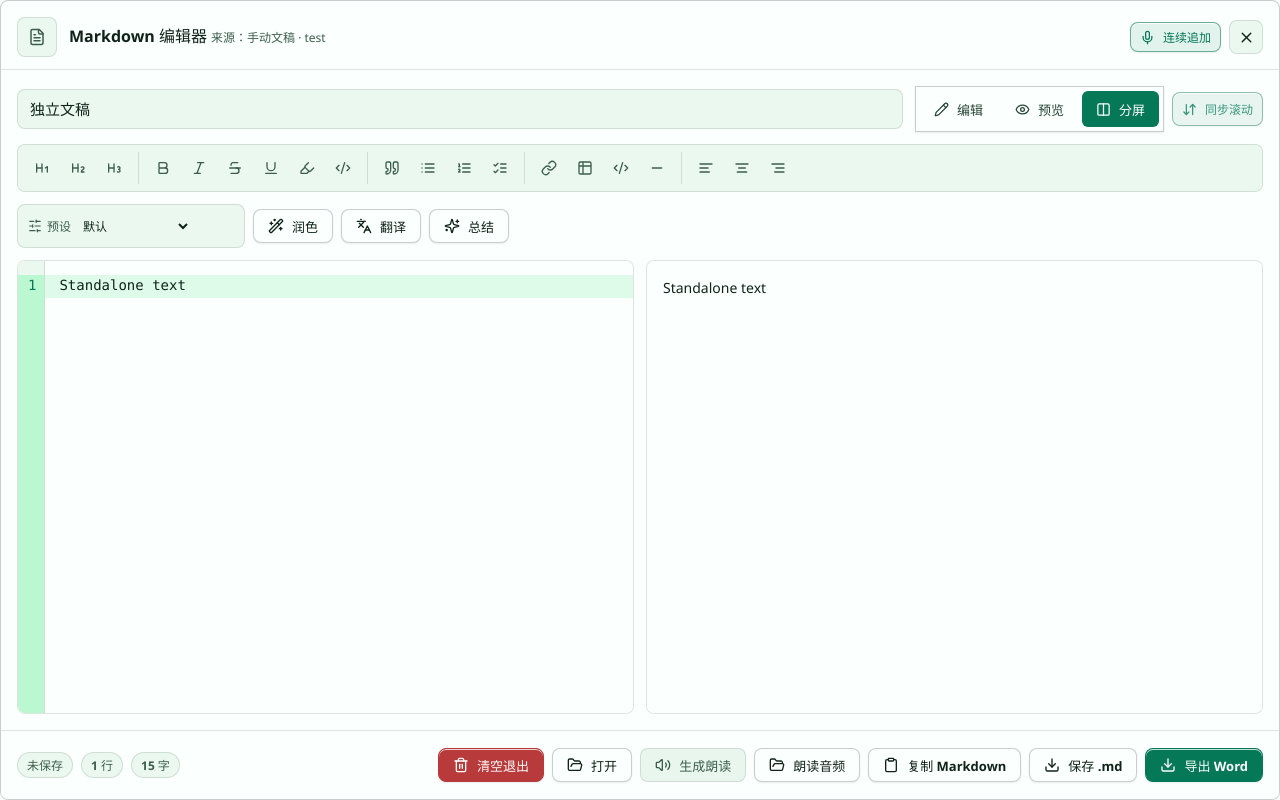
Scenario: standalone Markdown editor App entry › silently discards a file result after the standalone editor switches drafts
Click the button with aria-label "打开 Markdown 文件" at (592, 765), box [552,748,632,782]
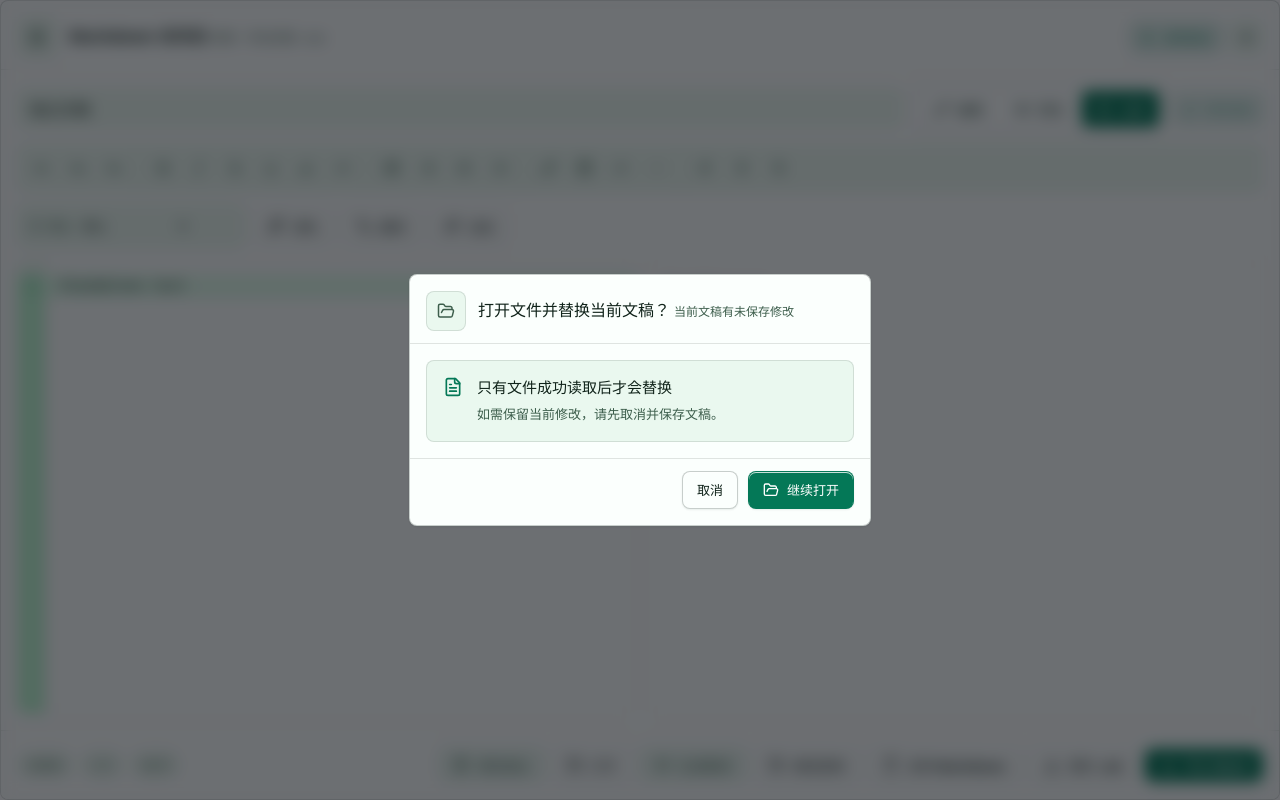
Click the button "继续打开" at (801, 490), box [748,471,854,509]
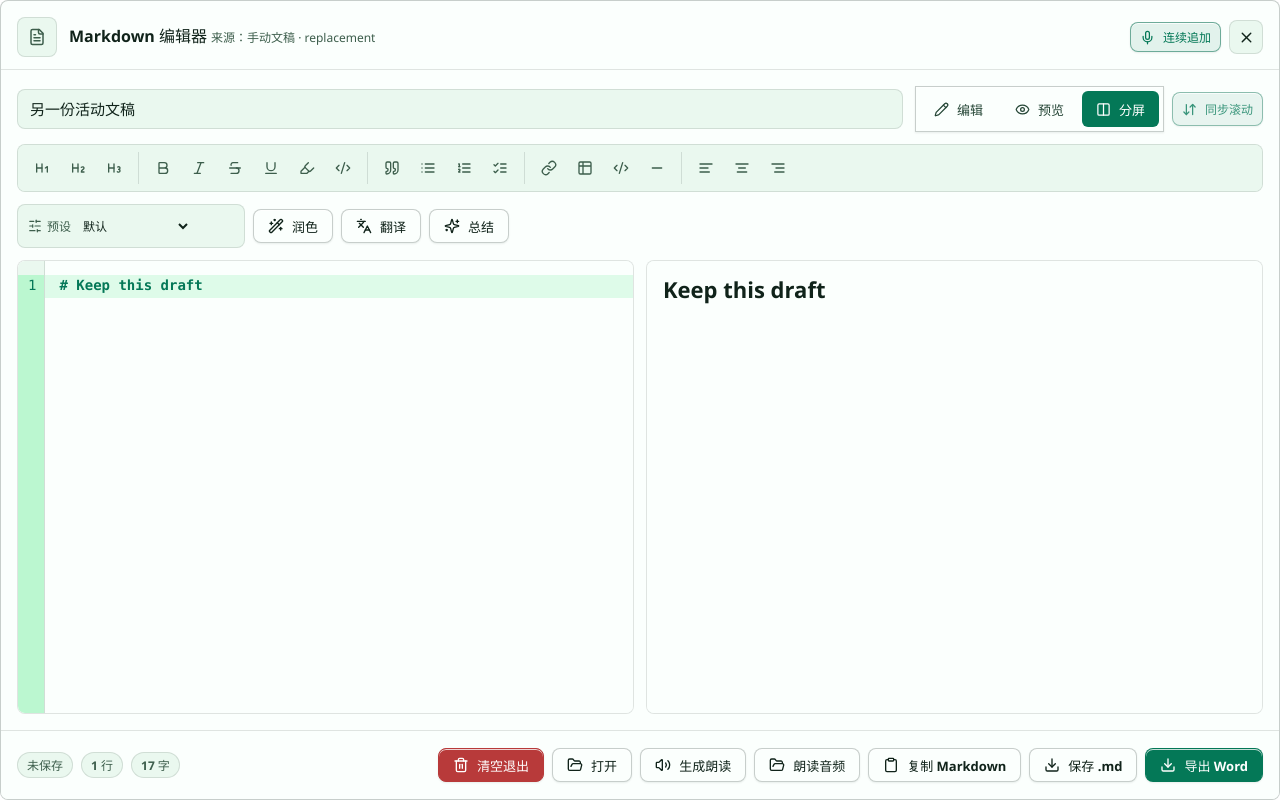
Now the text "打开文件并替换当前文稿？" is gone
Now the field showing "另一份活动文稿" is shown, box [17,89,903,129]
